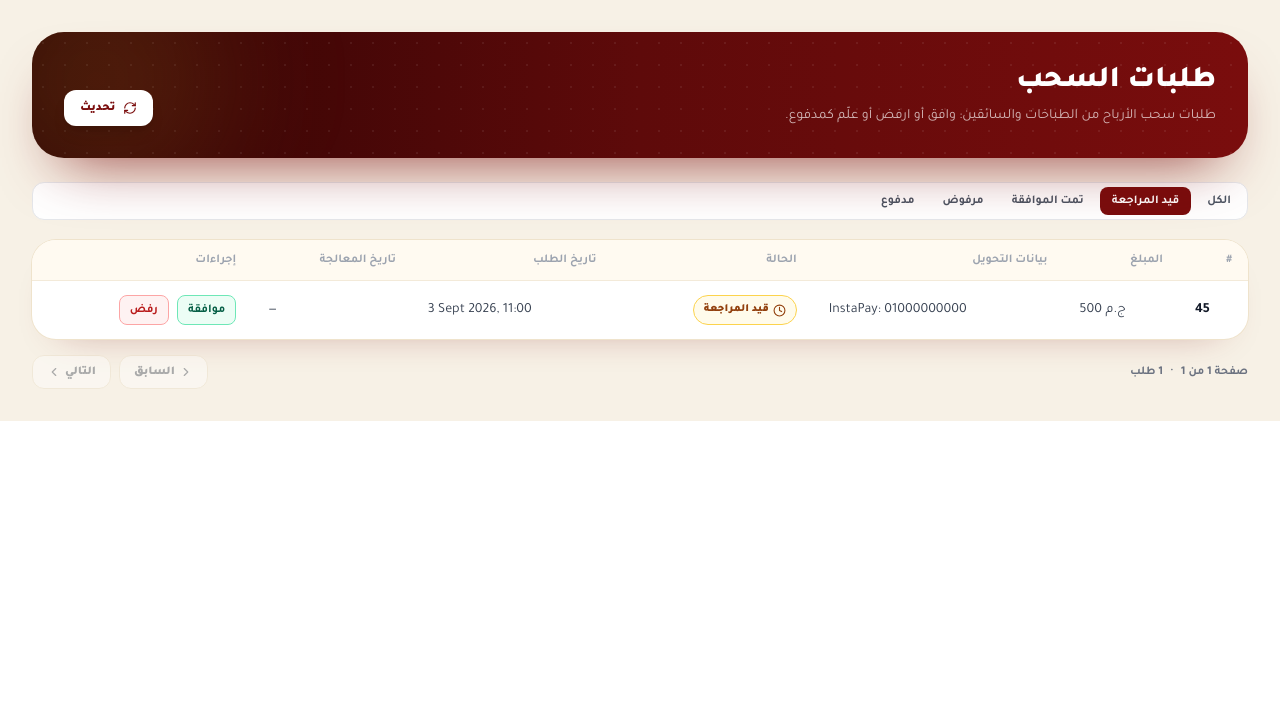
Test: US3 — reject a pending withdrawal (no reason field) › confirm → one no-body POST, re-fetch, row rejected, success toast
Expected: the text "45" is shown, [1179,280,1248,339]
Click the button "رفض" at (144, 310), box [119,295,169,325]
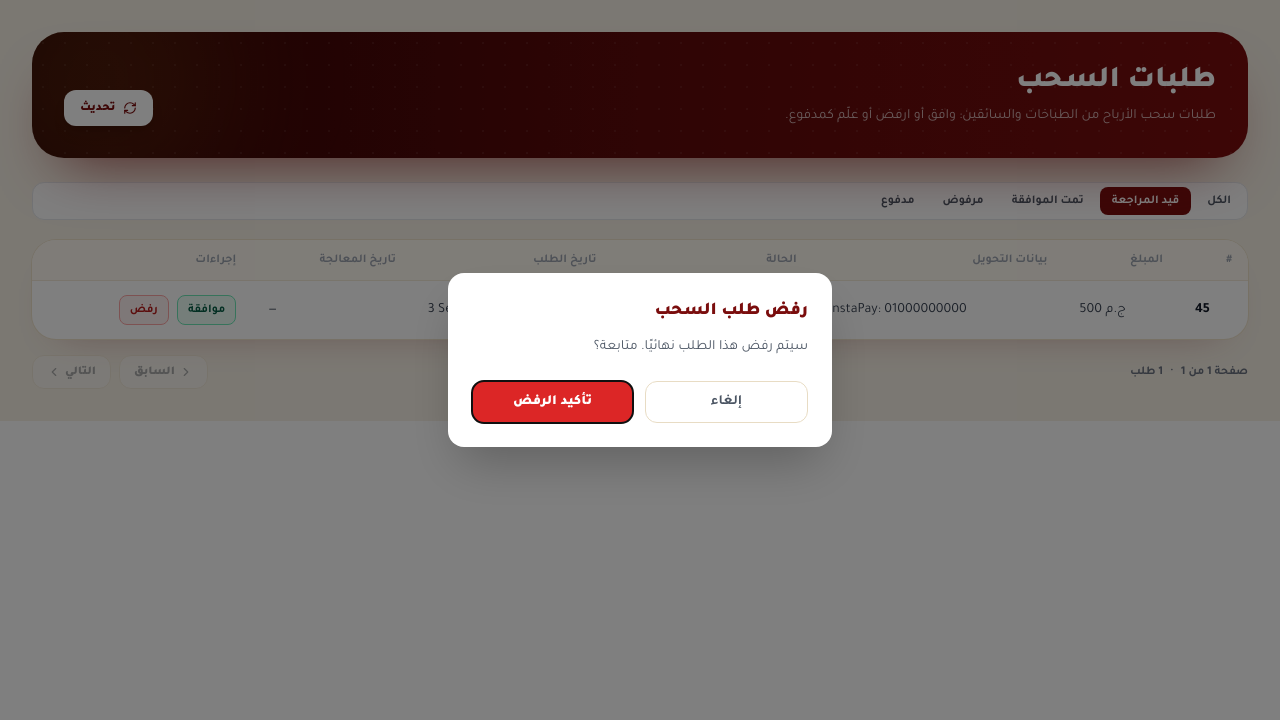
Click the button "تأكيد الرفض" at (552, 402), box [472,381,633,423]
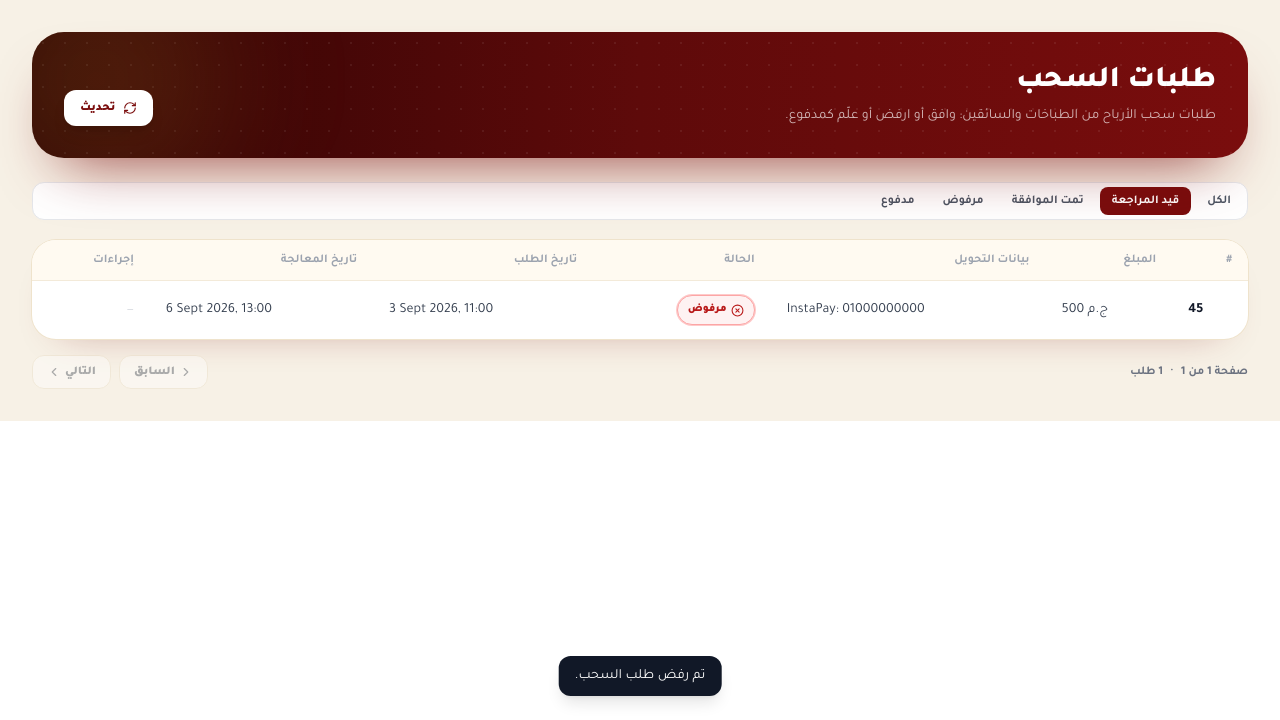
Expected: the text "مرفوض" is shown, [677,295,755,325]
